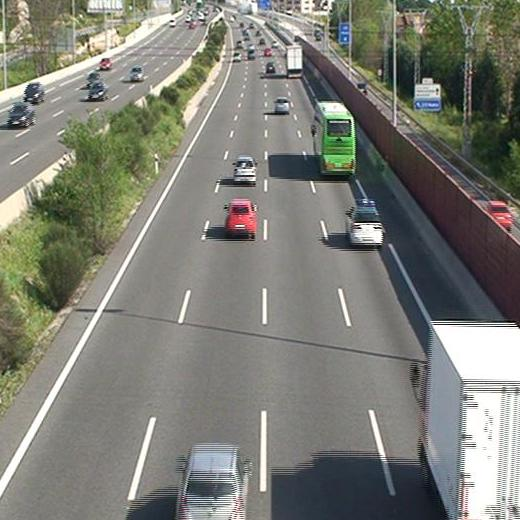bus: (313, 102, 355, 175)
car: (174, 445, 249, 520), (345, 204, 384, 244), (226, 199, 256, 235), (233, 158, 257, 184), (274, 96, 290, 113), (245, 50, 255, 61), (265, 61, 274, 71), (262, 48, 271, 56), (233, 53, 241, 61)
small-truck: (421, 322, 520, 520), (284, 47, 303, 78)
